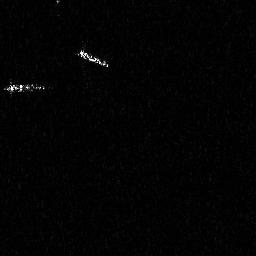ship: (73, 46, 111, 68), (3, 80, 47, 95)
